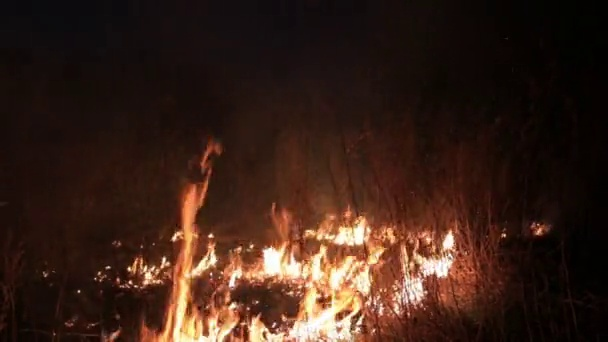fire: (249, 213, 453, 342), (144, 151, 242, 342)
